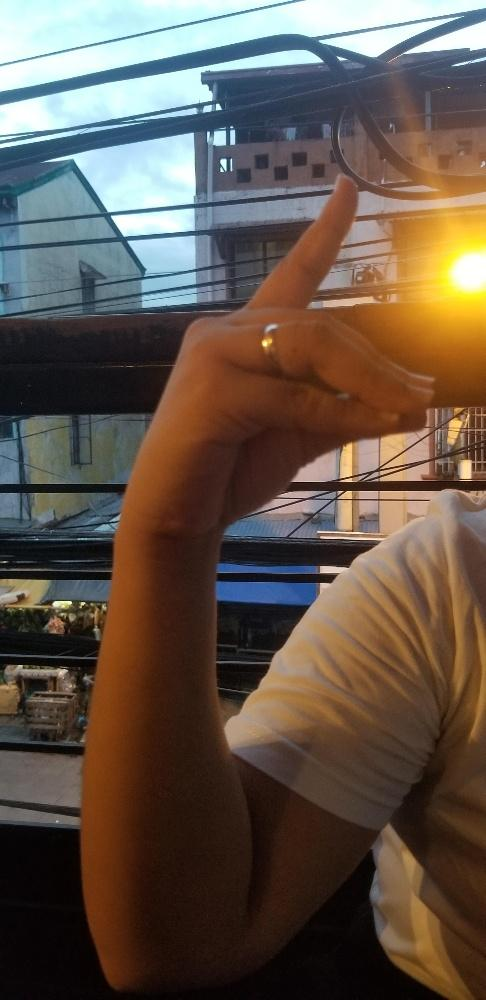d: (119, 171, 441, 528)
